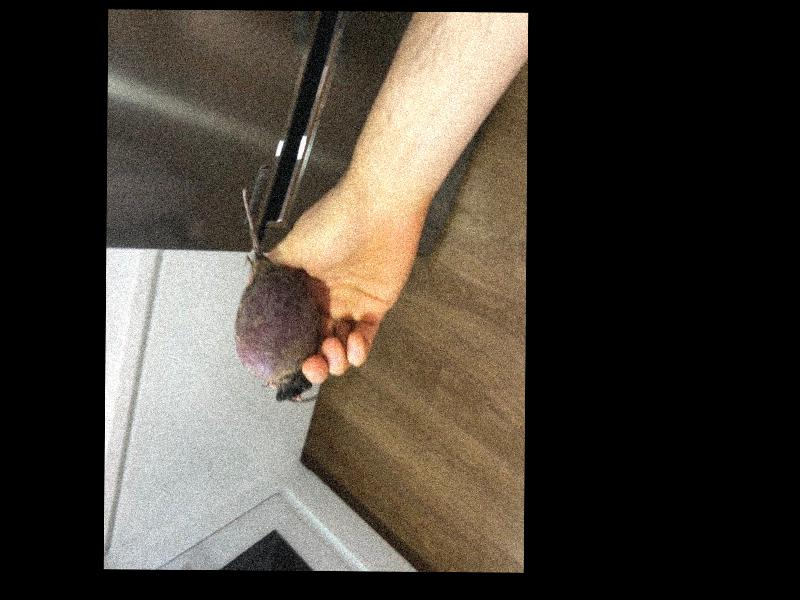Beet: (234, 189, 320, 404)
